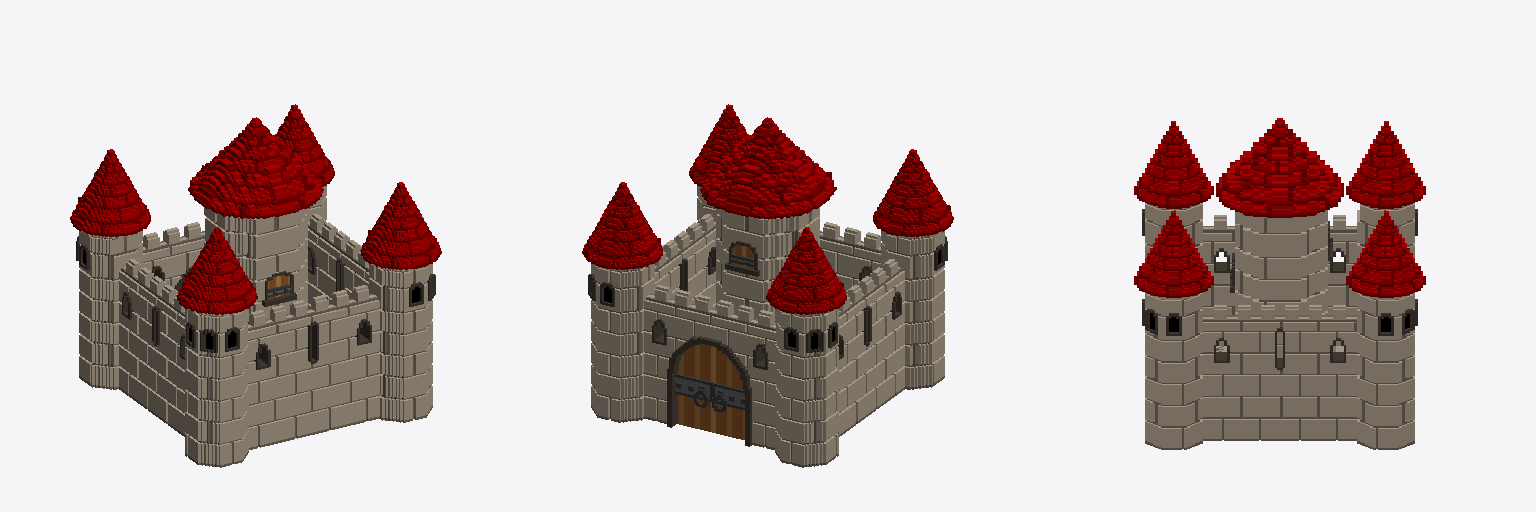
The picture shows the model from 3 angles: view 1: azimuth 30°, elevation 25°; view 2: azimuth 150°, elevation 25°; view 3: azimuth 270°, elevation 25°; orthographic projection.
Parts seen in each view (by area): view 1: object 1; view 2: object 1; view 3: object 1.
Boxes of the visible parts, x1,y1,x2,y2 form: object 1: [70, 104, 441, 467]; object 1: [582, 104, 953, 467]; object 1: [1134, 118, 1425, 449].
Size of the model in its own units: 11 by 11.4 by 11.
1 materials, 1 textured.